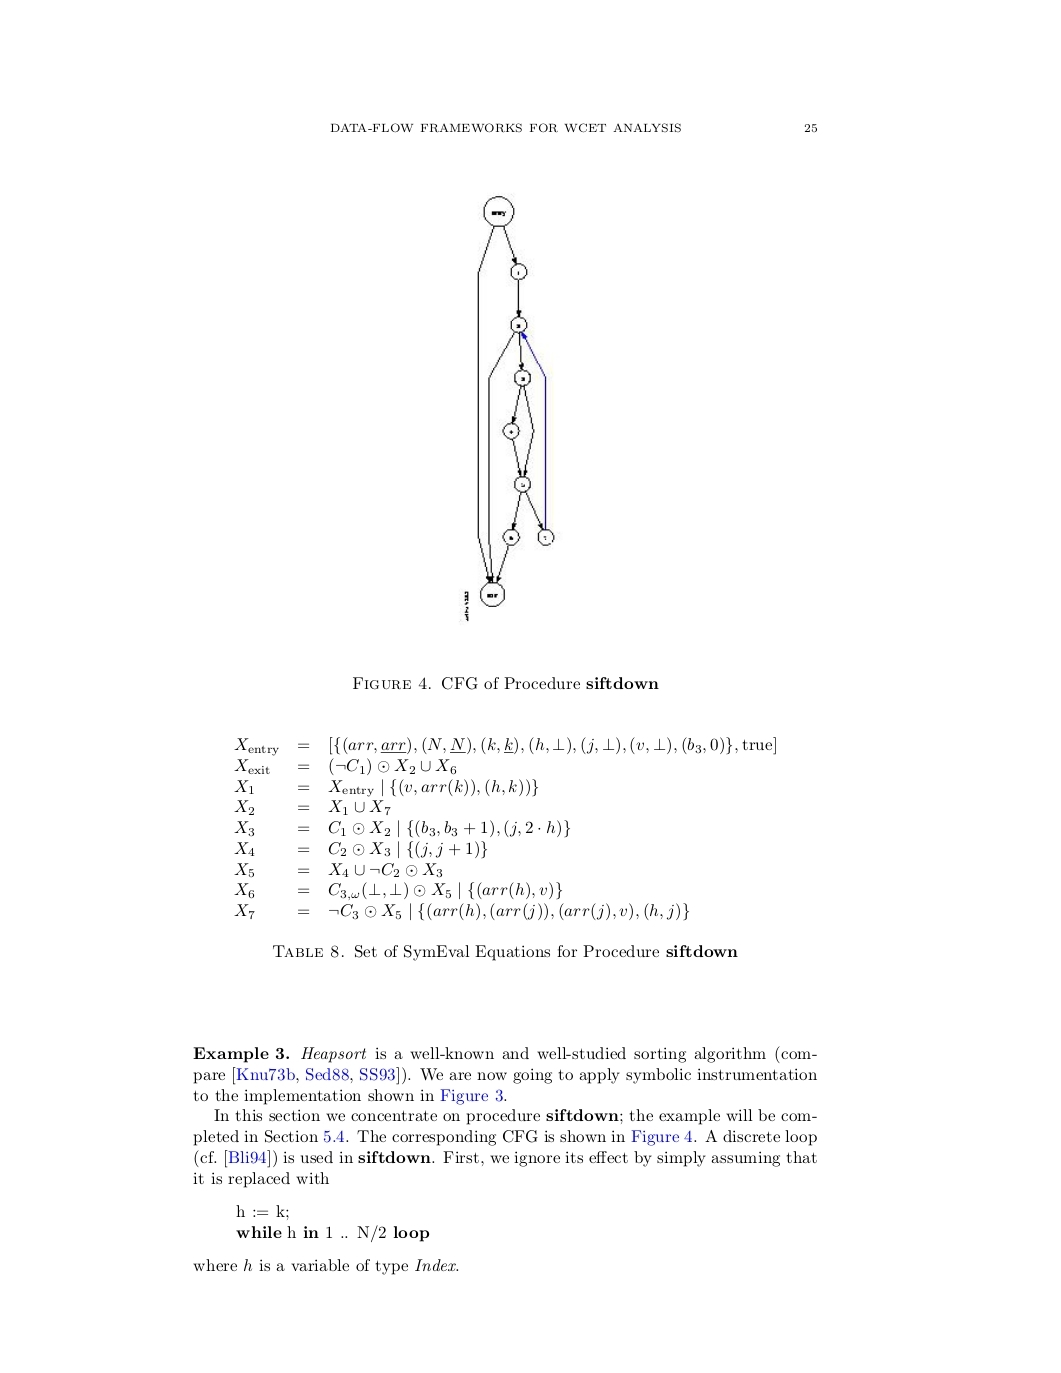figure: (459, 195, 554, 622)
formula: (234, 736, 775, 756), (234, 902, 688, 921), (234, 819, 570, 838), (234, 882, 561, 900), (234, 778, 537, 797), (234, 840, 486, 859), (234, 757, 456, 776), (234, 861, 442, 878), (234, 799, 390, 816)
